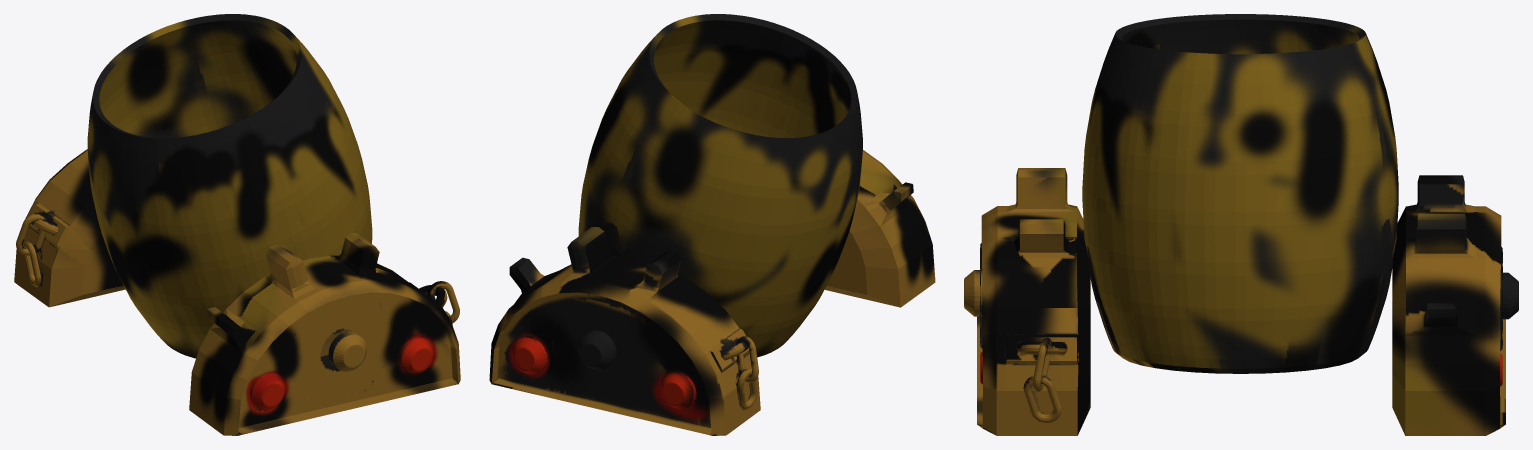
File: mortar.fbx
3 renders of one model, left to right at view 1: azimuth 30°, elevation 25°; view 2: azimuth 150°, elevation 25°; view 3: azimuth 270°, elevation 25°, orthographic. The views are drawn at different scales.
Parts seen in each view (by area): view 1: Mortar; view 2: Mortar; view 3: Mortar.
Part boxes in pixels (left/top/right/bottom): Mortar: left=14, top=14, right=460, bottom=435; Mortar: left=489, top=14, right=935, bottom=435; Mortar: left=964, top=14, right=1518, bottom=435.
Bounding box in the file's own units: 225 × 235 × 344.
Materials: 1 (1 with a texture image).
